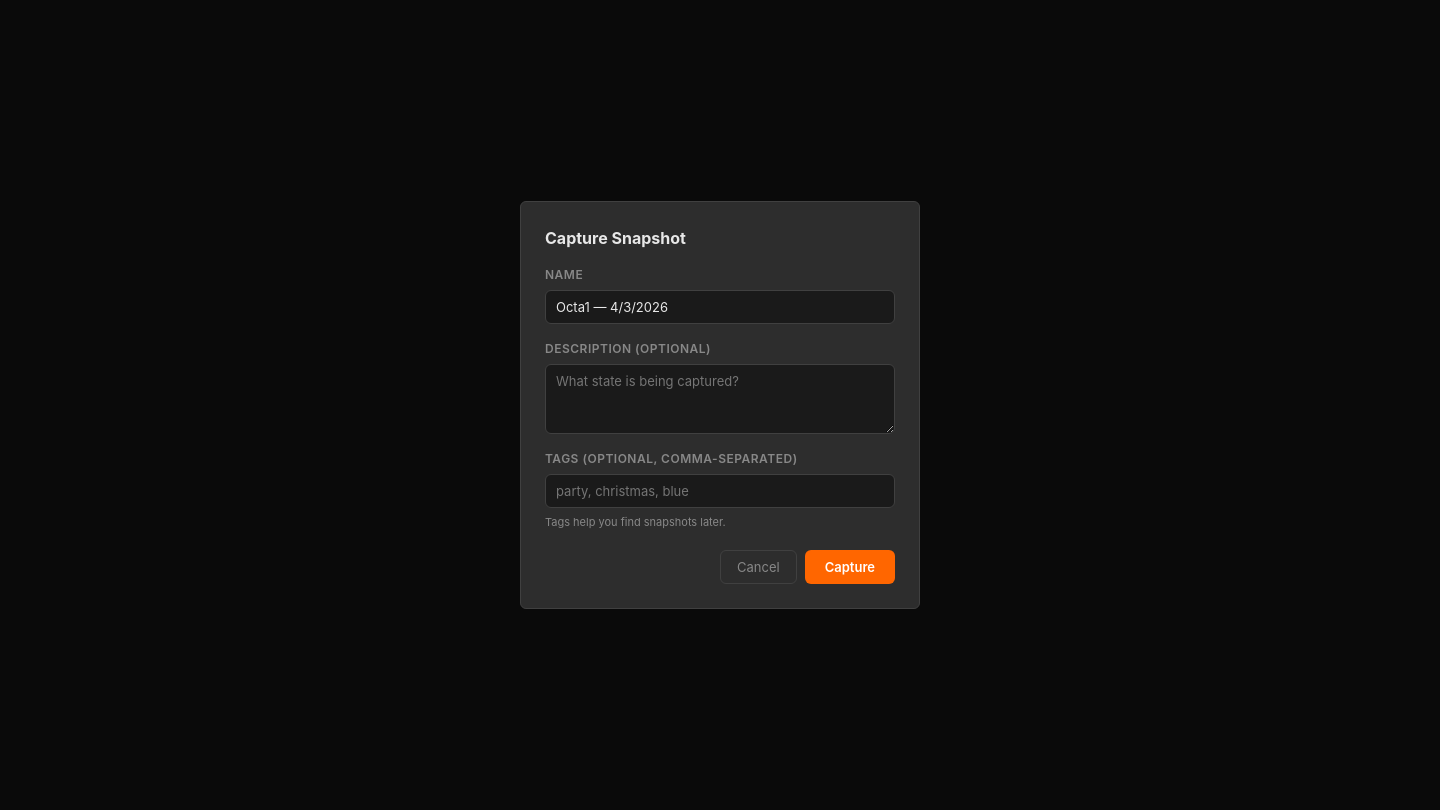
Test: CaptureModal › Capture button is disabled when name is cleared
The image size is (1440, 810).
Clear the field with placeholder "e.g. Living Room — Pre-Party" at coordinates (720, 307), box 545,290 -> 895,324
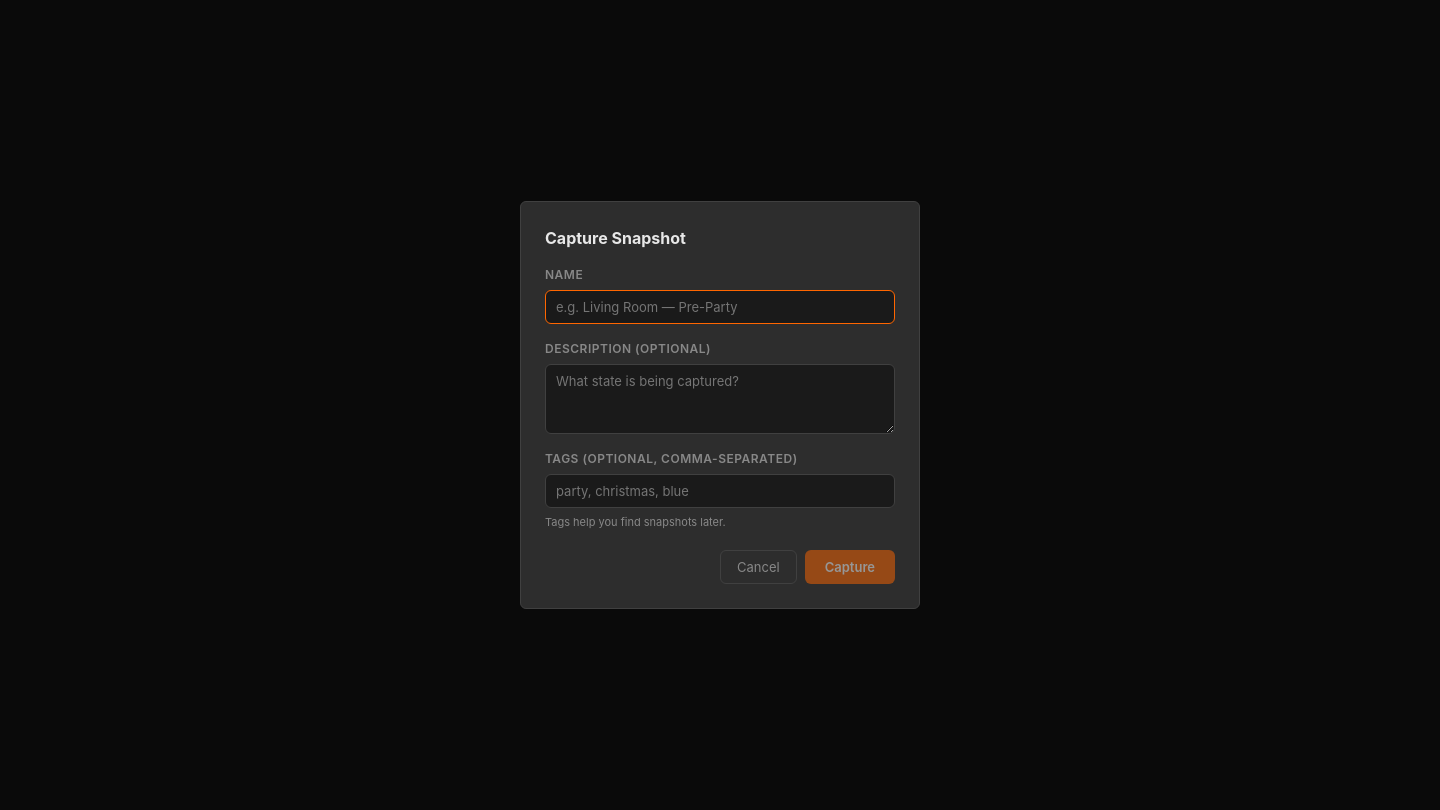
Now the button "Capture" is disabled, box 805,550 -> 895,584
